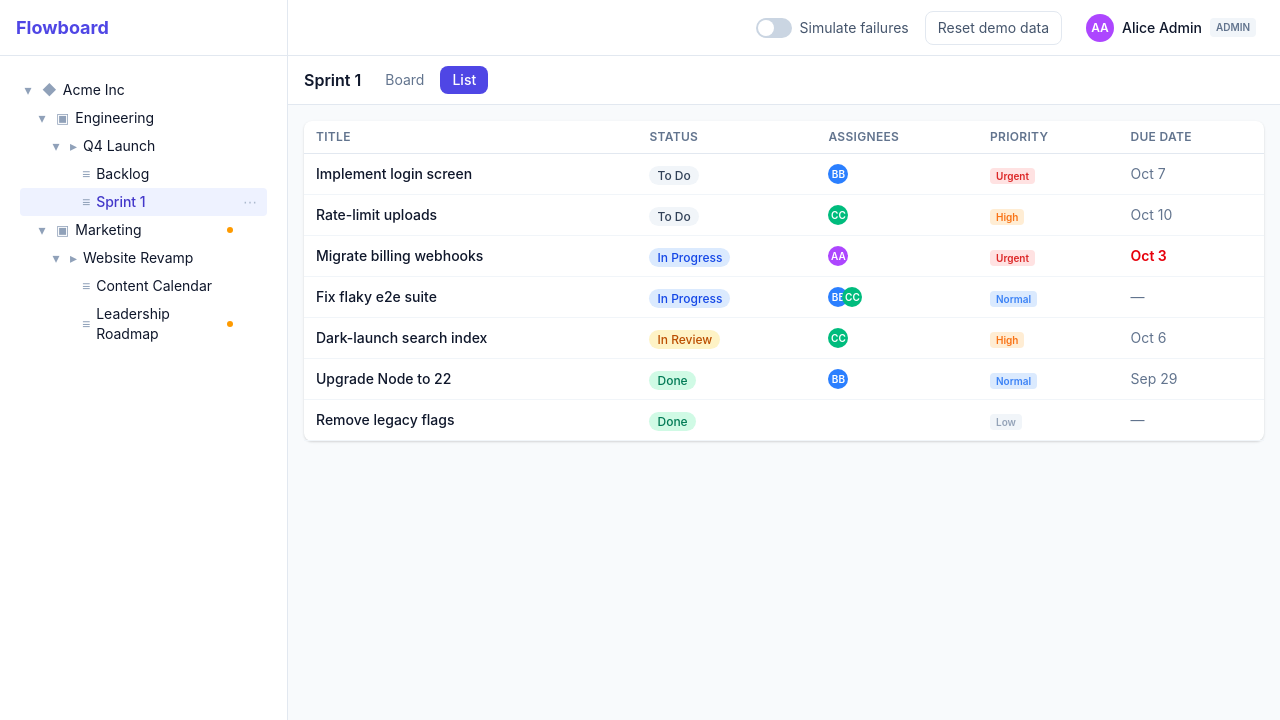
Test: Due date header sorts chronologically with null due dates last in both directions
Click the button "Due date": (1161, 137) [1130, 129, 1192, 145]
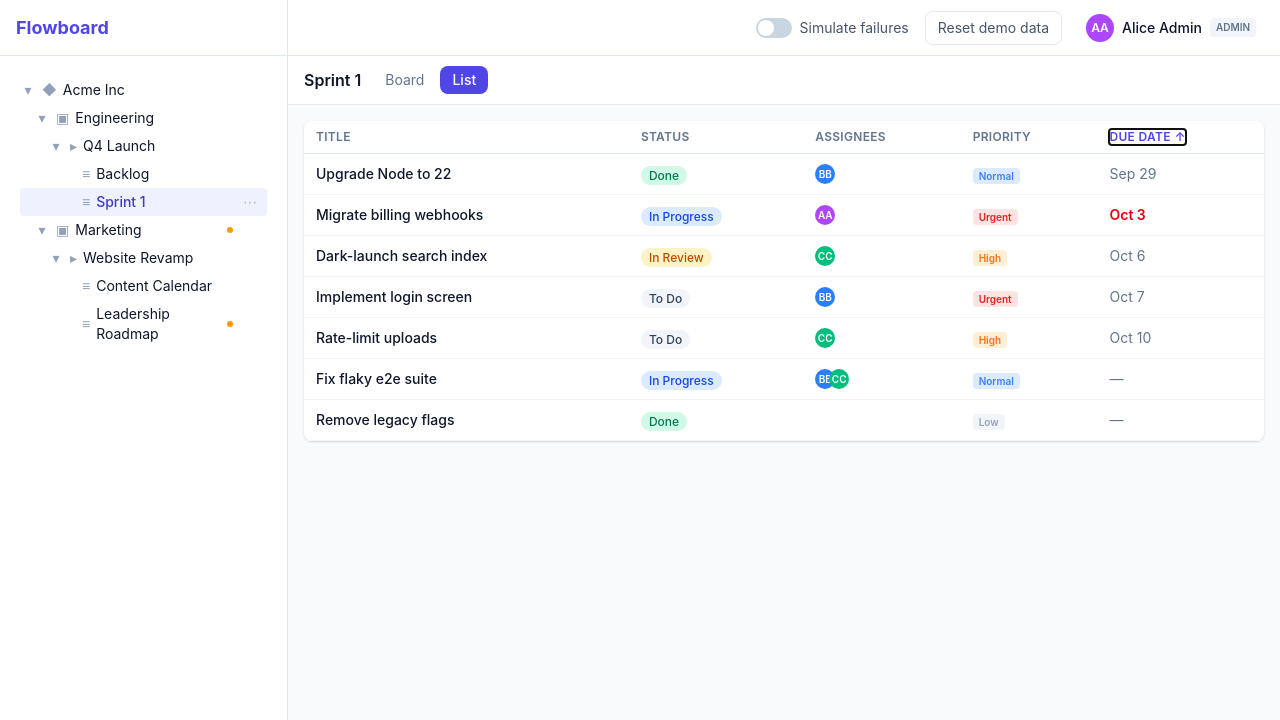
Result: the button "Due date ↑" is shown
Click the button "Due date ↑": (1148, 137) [1110, 129, 1186, 145]
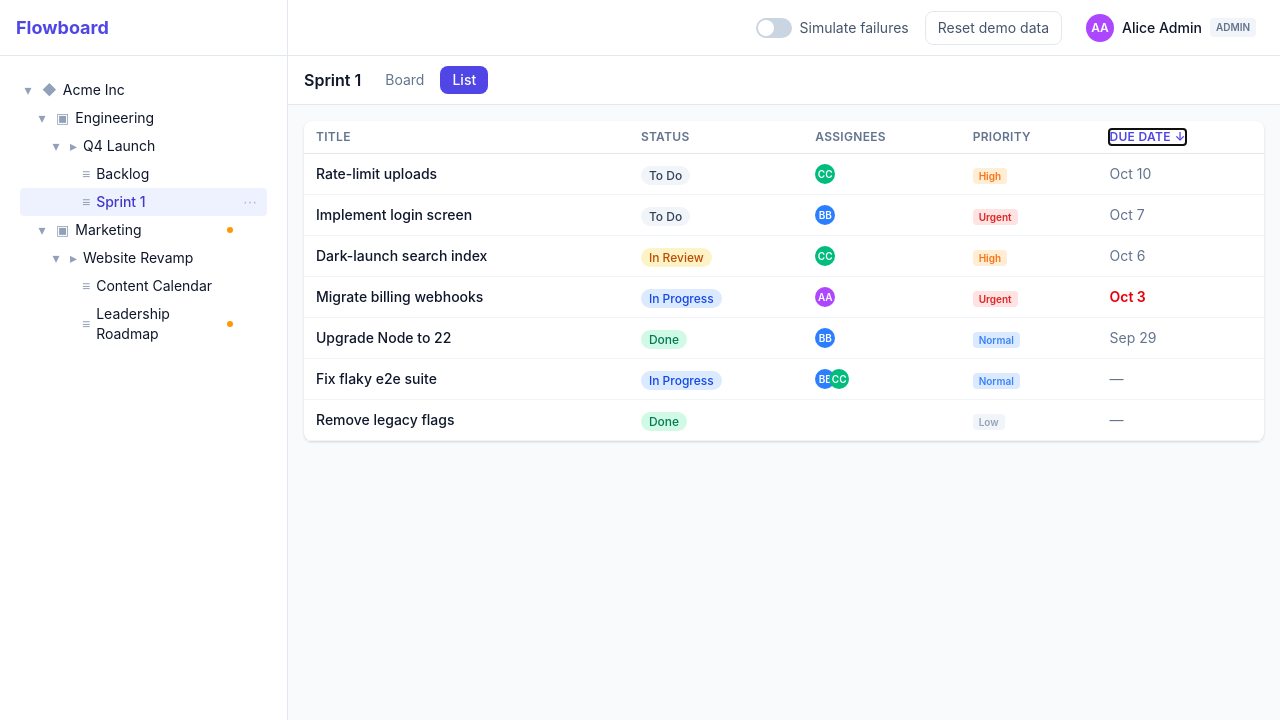
Result: the button "Due date ↓" is shown at [1110, 129, 1186, 145]
